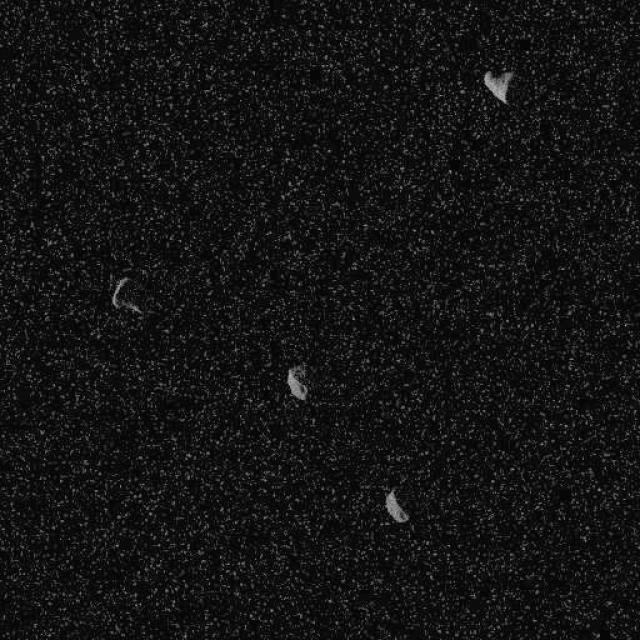D2: (110, 275, 145, 315), (481, 69, 514, 105), (384, 486, 410, 524), (285, 365, 309, 401)
